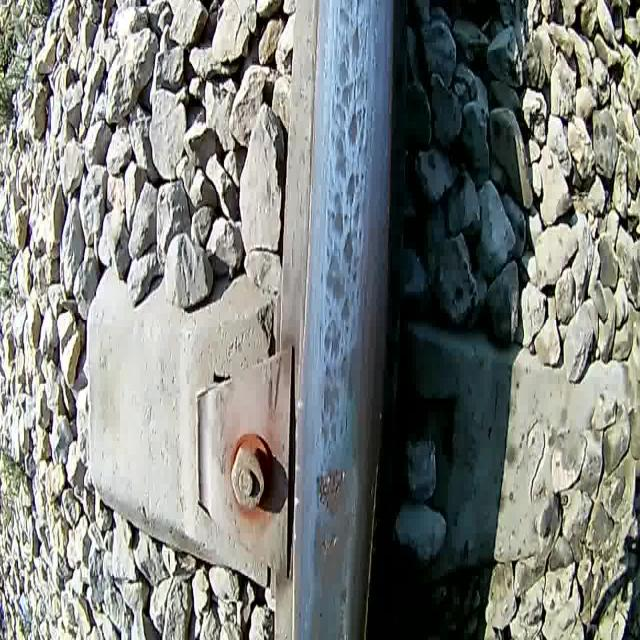Spallings: (314, 463, 348, 511), (318, 527, 342, 561)
Squats: (316, 0, 375, 459), (307, 467, 355, 640)
